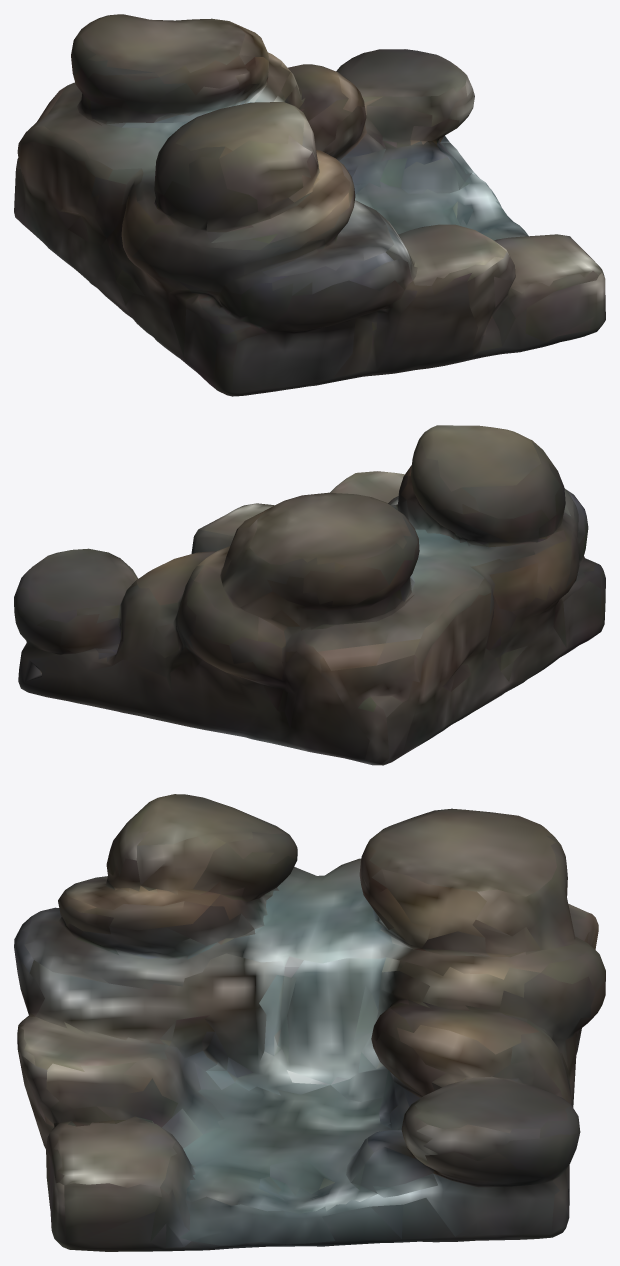
Rendered from m23_riacho_pedras.glb.
The picture shows the model from 3 angles, top to bottom: view 1: azimuth 30°, elevation 25°; view 2: azimuth 150°, elevation 25°; view 3: azimuth 270°, elevation 25°; orthographic projection. The views are drawn at different scales.
Visible parts, largest first — view 1: m23_riacho_pedras; view 2: m23_riacho_pedras; view 3: m23_riacho_pedras.
Boxes of the visible parts, box(x1,y1,x2,y2) form: m23_riacho_pedras: box(14, 14, 605, 396); m23_riacho_pedras: box(14, 425, 605, 765); m23_riacho_pedras: box(14, 794, 605, 1251).
Size of the model in its own units: 1.04 by 0.5482 by 1.06.
1 material, 1 textured.
